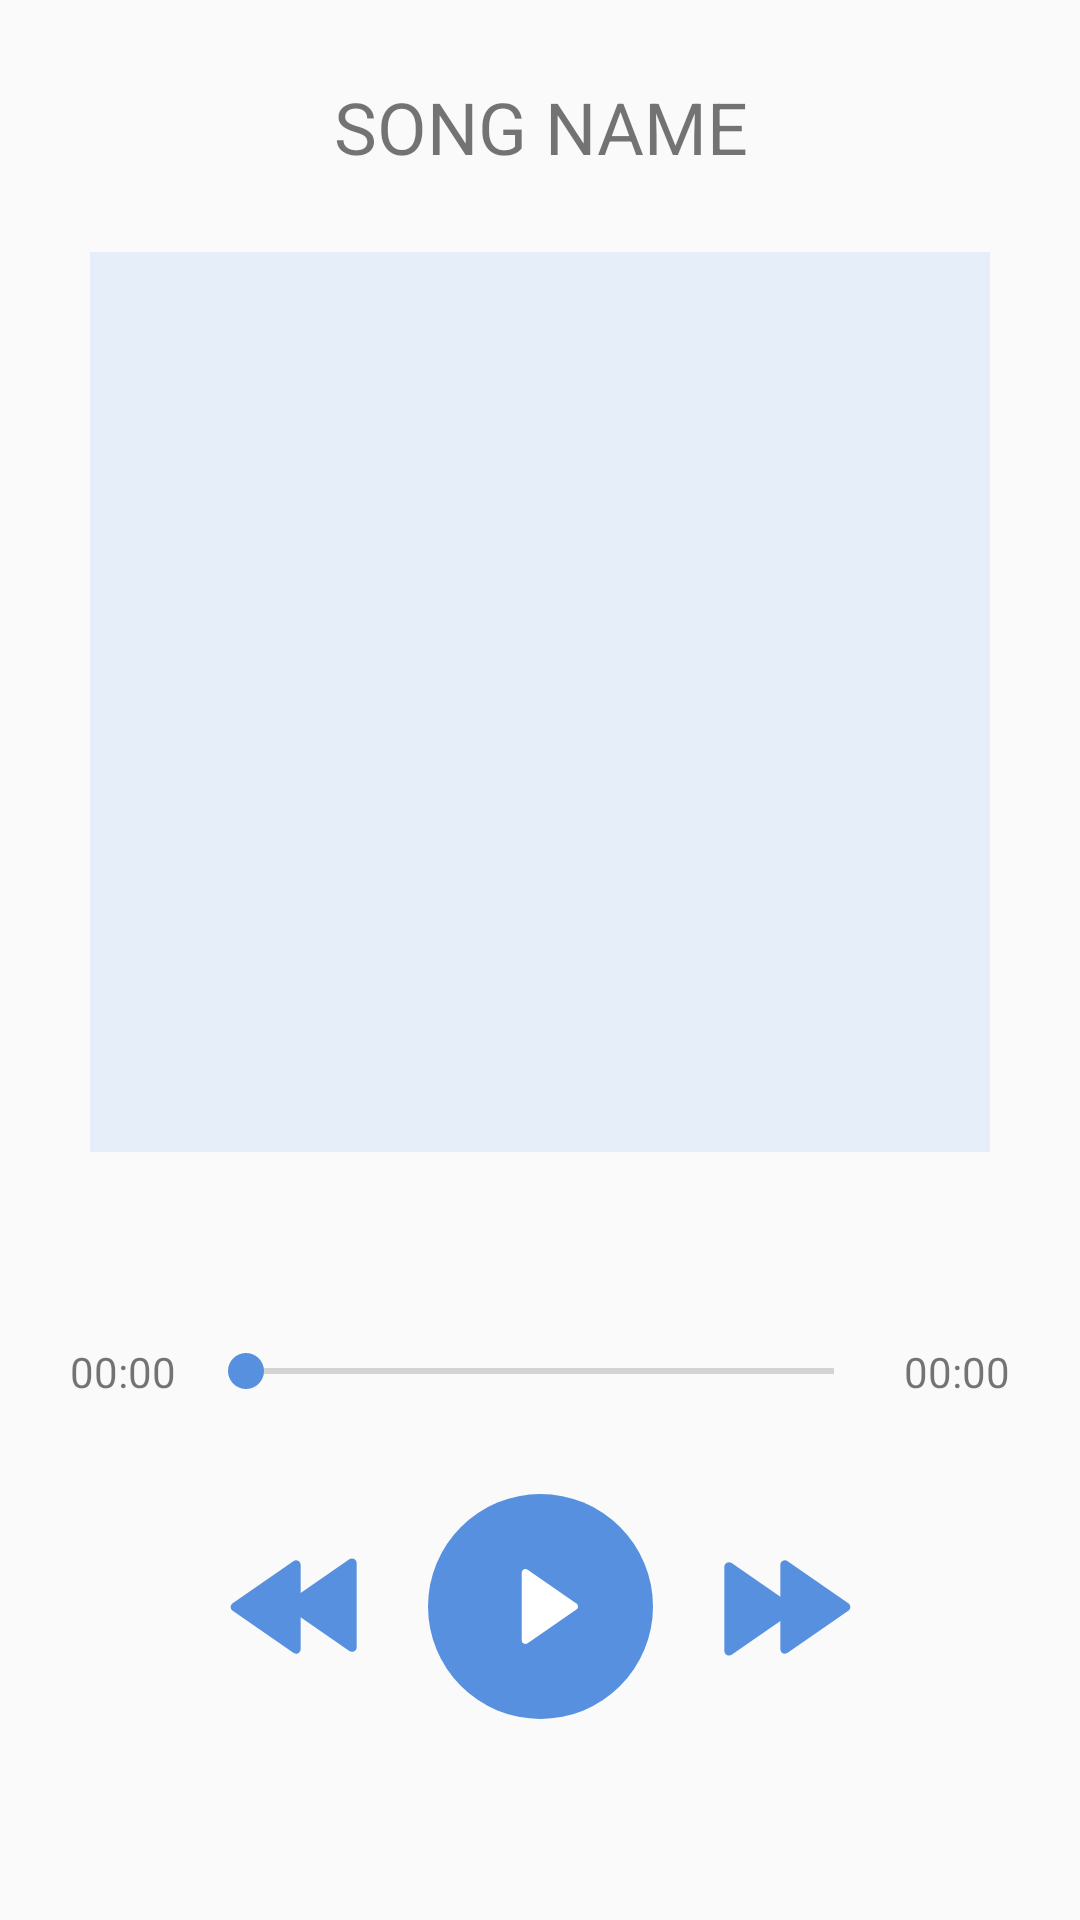

Where icons sit on this 1080px×1920px app screen, as (x1=x1, y1=y1, x2=x2, y2=y2):
next: (x1=724, y1=1560, x2=851, y2=1656)
play song: (x1=428, y1=1494, x2=653, y2=1719)
